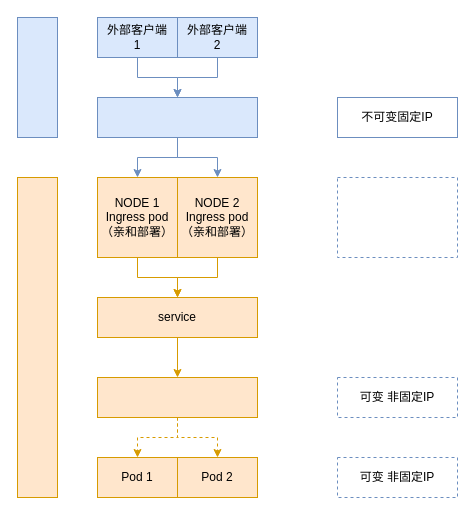
Image size: 475x515. Some labels were removed from this diagram. Each missing label, with the box of its shape:
Cluster IP: (96, 376, 258, 418)
K8S Cluser: (16, 176, 58, 498)
Loadbalance（或Cloud LB）: (96, 96, 258, 138)
可变 固定IP: (336, 176, 458, 258)
外部: (16, 16, 58, 138)
